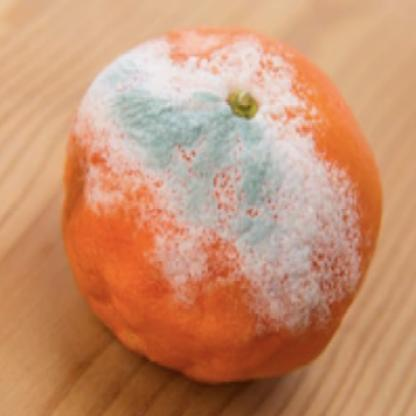rotten: (71, 30, 386, 386)
